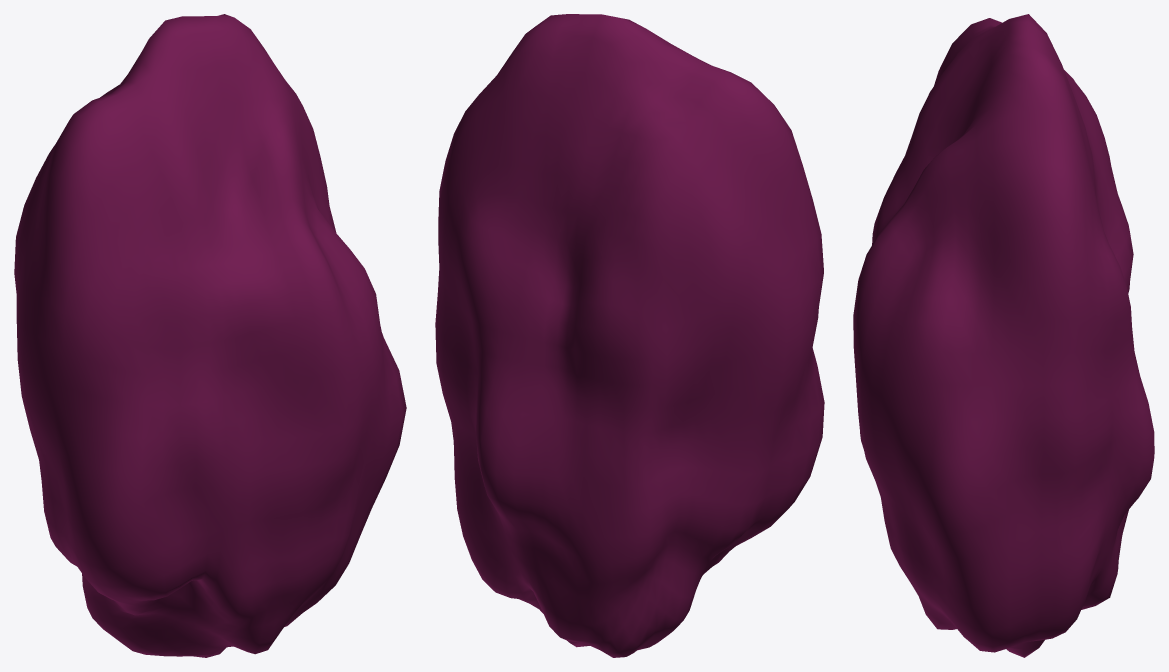
Rendered from stone2.fbx.
3 renders of one model, left to right at view 1: azimuth 30°, elevation 25°; view 2: azimuth 150°, elevation 25°; view 3: azimuth 270°, elevation 25°, orthographic. The views are drawn at different scales.
Parts seen in each view (by area): view 1: Cube.003; view 2: Cube.003; view 3: Cube.003.
Part boxes in pixels (x1,y1,x2,y2): Cube.003: [14, 14, 406, 657]; Cube.003: [435, 14, 824, 657]; Cube.003: [853, 14, 1154, 657].
Size of the model in its own units: 268 by 455 by 200.
